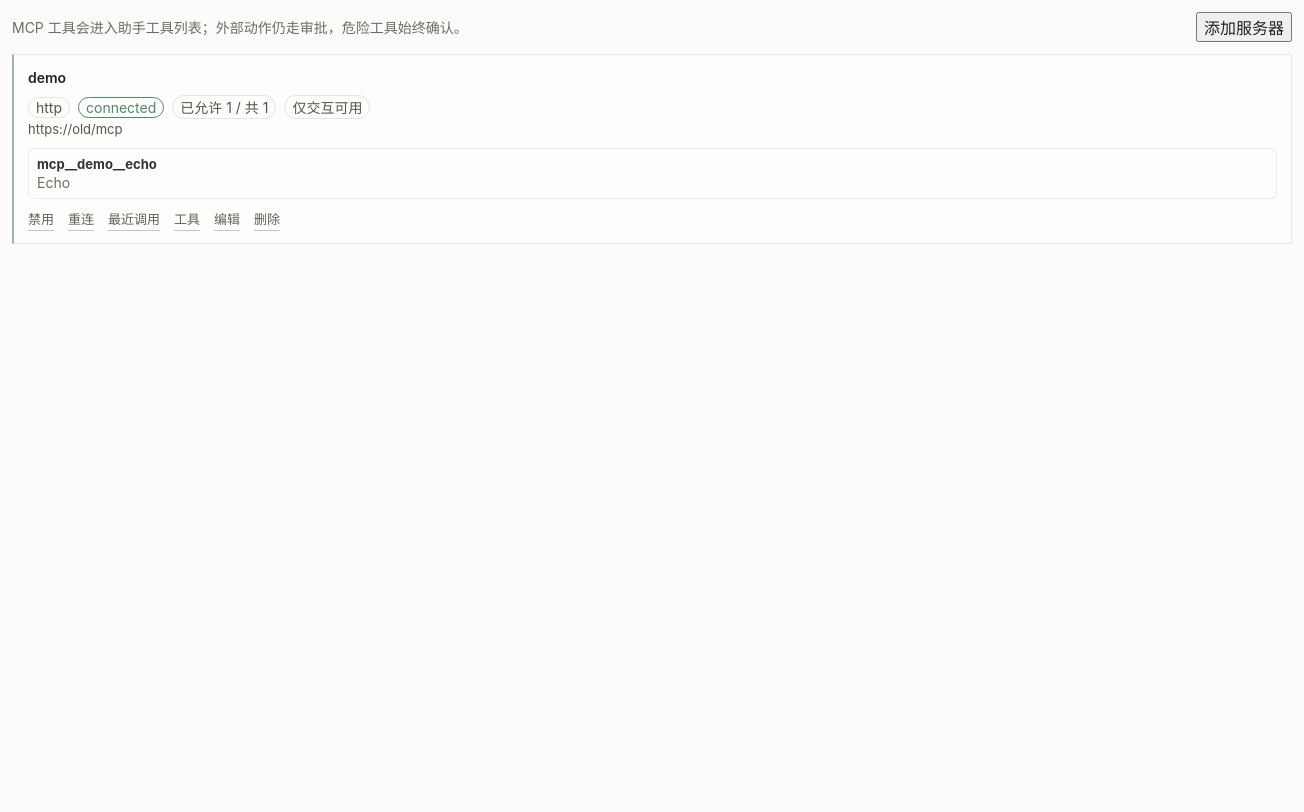
F1 编辑已有服务器：校验失败零请求 › http 缺 url：可见文案 + 不发请求
Click the button "编辑" at (227,219), box [214,207,240,231]
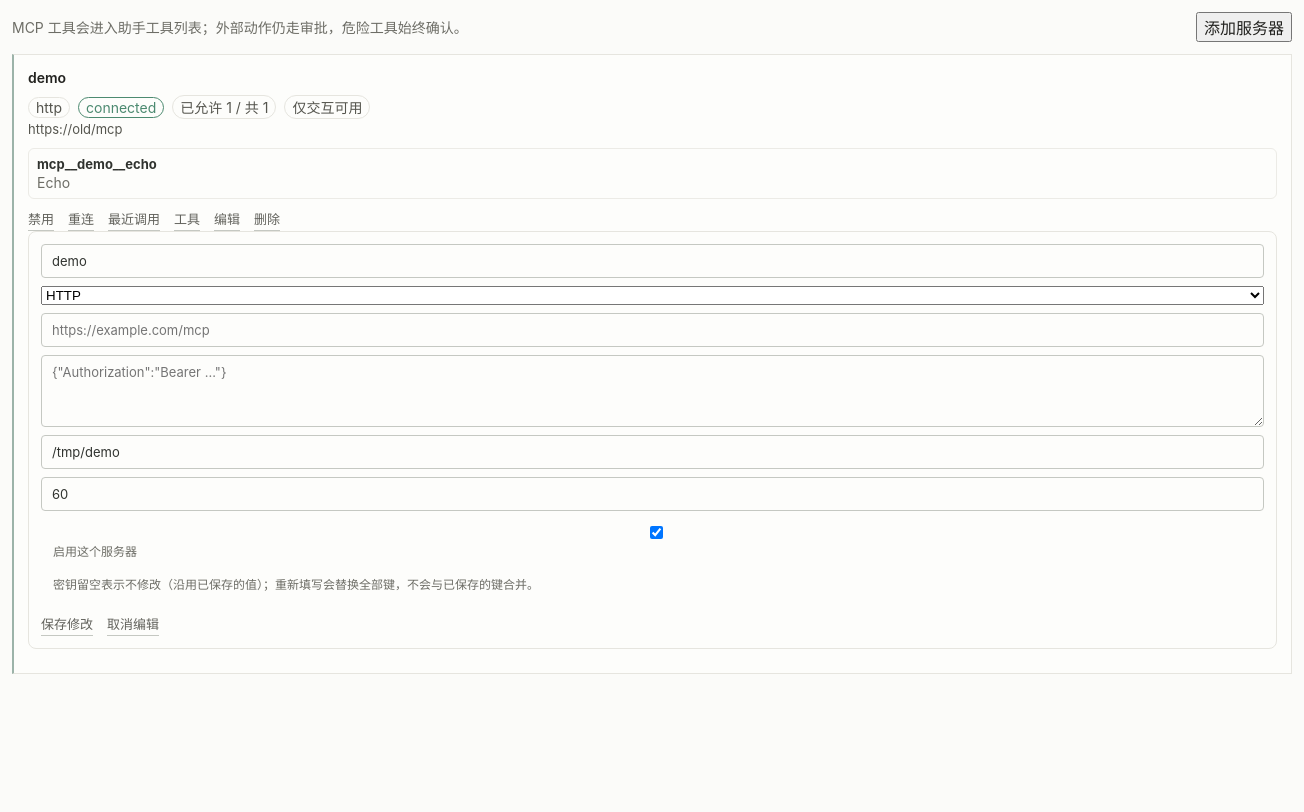
Click the button "保存修改" at (67,624), box [41,612,93,636]
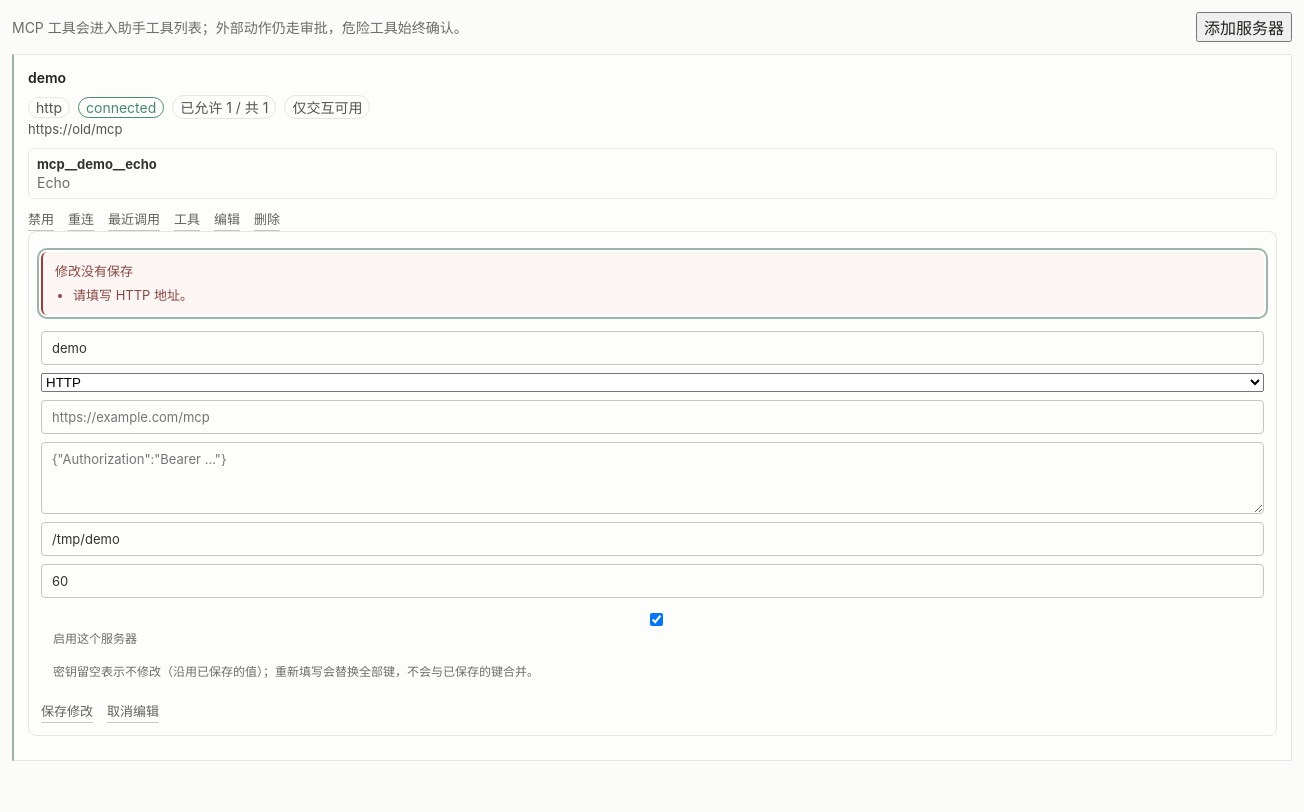
Result: the text "请填写 HTTP 地址。" is shown at [73,287,193,303]
